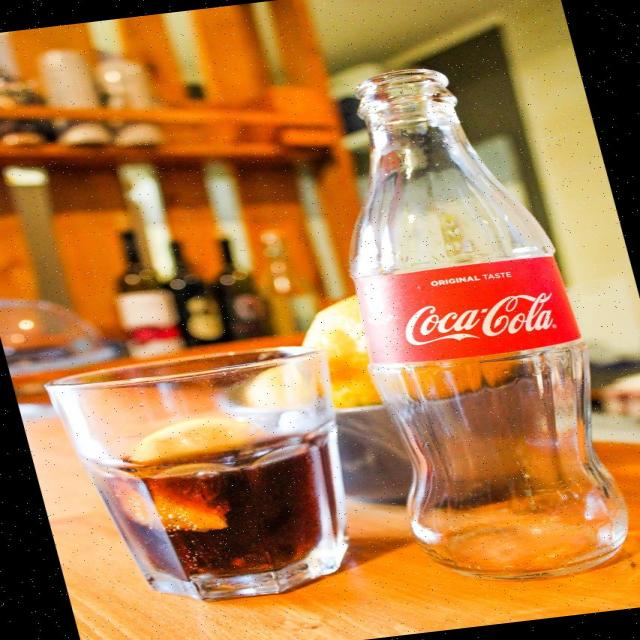coca-cola: (280, 41, 640, 598)
